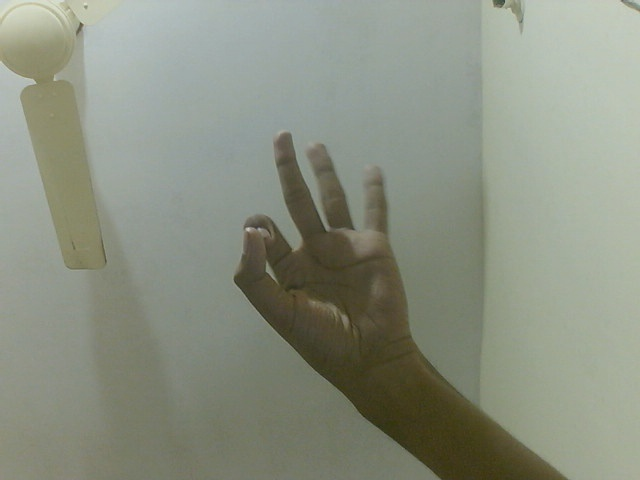hand: (231, 124, 422, 395)
